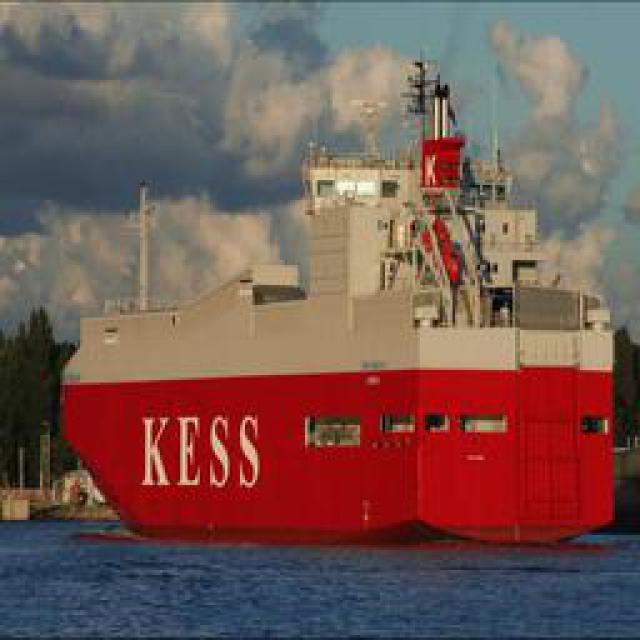Ship: (32, 43, 640, 554)
